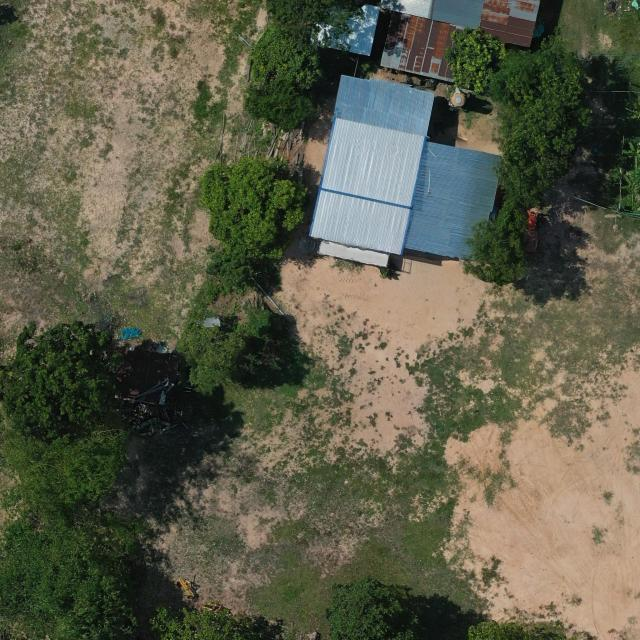Tree: (0, 507, 137, 640), (493, 45, 594, 206), (0, 318, 123, 442), (196, 154, 310, 259), (0, 425, 133, 512), (326, 575, 420, 640), (248, 24, 324, 90), (264, 0, 366, 48), (462, 217, 532, 286), (442, 26, 507, 96), (243, 84, 315, 134), (188, 322, 246, 371), (206, 250, 256, 289), (246, 304, 277, 338)
